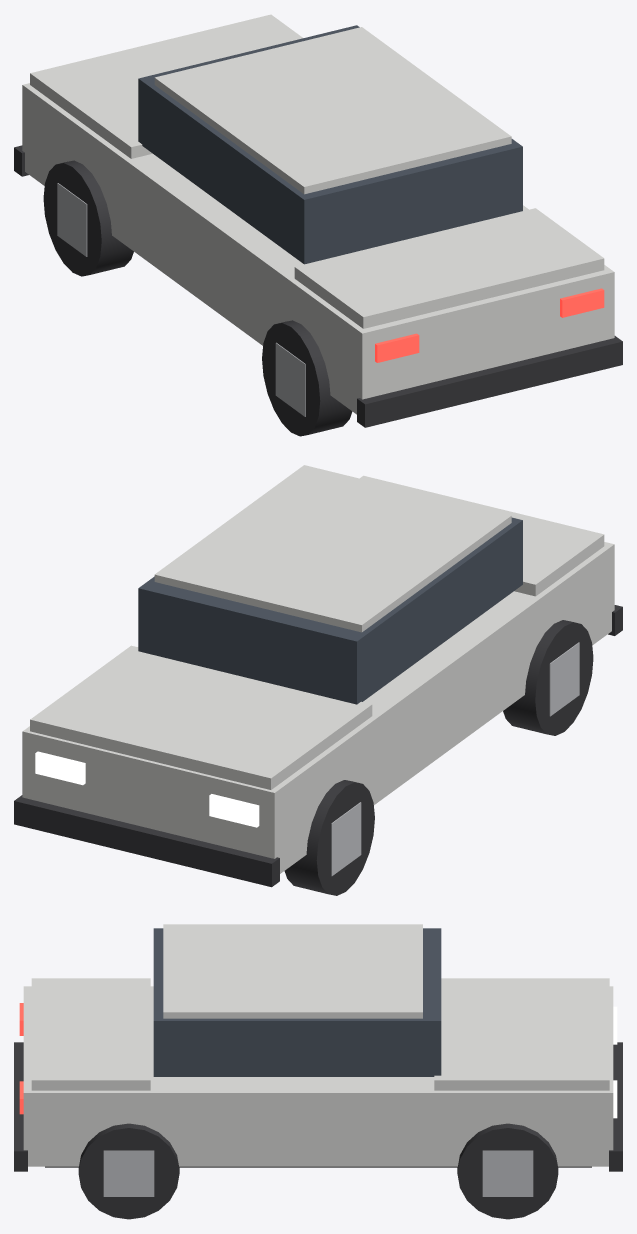
Rendered from car_white.gltf.
The picture shows the model from 3 angles, top to bottom: view 1: azimuth 30°, elevation 25°; view 2: azimuth 150°, elevation 25°; view 3: azimuth 270°, elevation 25°; orthographic projection. The views are drawn at different scales.
Parts seen in each view (by area): view 1: Body, Roof, Cabin, Trim, Wheel0, Wheel2, Taillights, Hub0, Hub2; view 2: Body, Roof, Cabin, Trim, Wheel0, Wheel2, Headlights, Hub0, Hub2; view 3: Body, Roof, Cabin, Wheel1, Wheel3, Trim, Hub1, Hub3.
Boxes of the visible parts, x1,y1,x2,y2 form: Body: [22, 14, 614, 414]; Roof: [154, 27, 511, 194]; Cabin: [138, 25, 522, 264]; Trim: [14, 145, 622, 427]; Wheel0: [43, 160, 133, 276]; Wheel2: [262, 320, 352, 436]; Taillights: [375, 288, 604, 362]; Hub0: [57, 183, 87, 256]; Hub2: [275, 342, 305, 416]; Body: [22, 475, 614, 873]; Roof: [154, 465, 511, 632]; Cabin: [138, 517, 522, 704]; Trim: [14, 605, 622, 887]; Wheel0: [284, 780, 374, 895]; Wheel2: [503, 620, 593, 735]; Headlights: [35, 751, 259, 827]; Hub0: [331, 802, 361, 876]; Hub2: [549, 642, 579, 716]; Body: [23, 978, 613, 1166]; Roof: [163, 924, 422, 1018]; Cabin: [153, 928, 441, 1076]; Wheel1: [457, 1123, 558, 1219]; Wheel3: [78, 1123, 179, 1219]; Trim: [14, 1042, 622, 1171]; Hub1: [482, 1150, 533, 1196]; Hub3: [103, 1150, 154, 1196].
Bounding box in the file's own units: 1.96 × 1.52 × 4.34.
